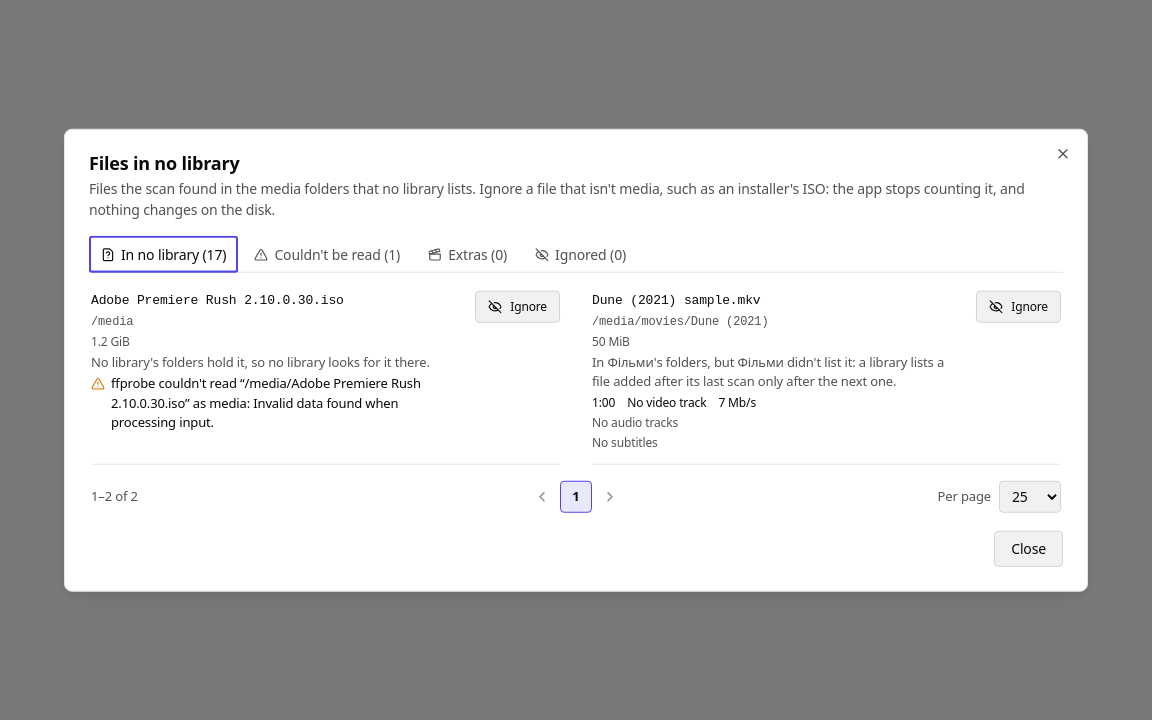
Scenario: UnreportedFilesDialog › shows a failure without a sentence on the file's row
The image size is (1152, 720).
Click the 1st button "Ignore".
click(518, 307)  # box [475, 291, 560, 323]
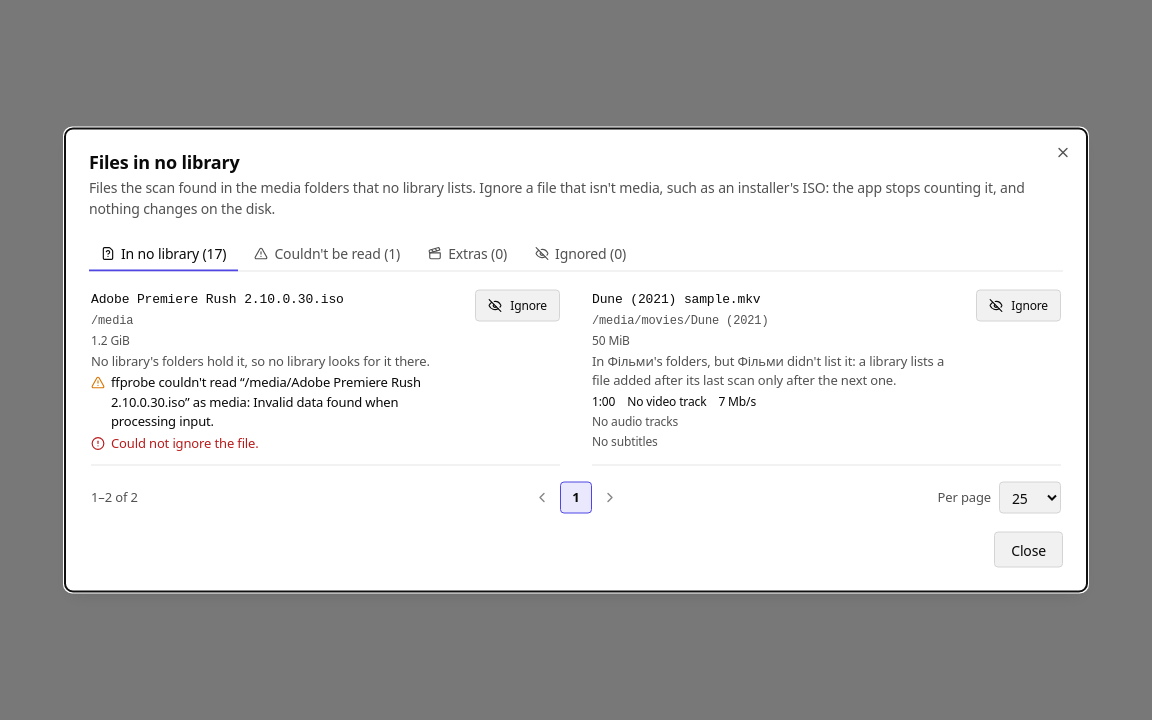
Result: the message reads "Could not ignore the file." at [111, 433, 259, 451]
